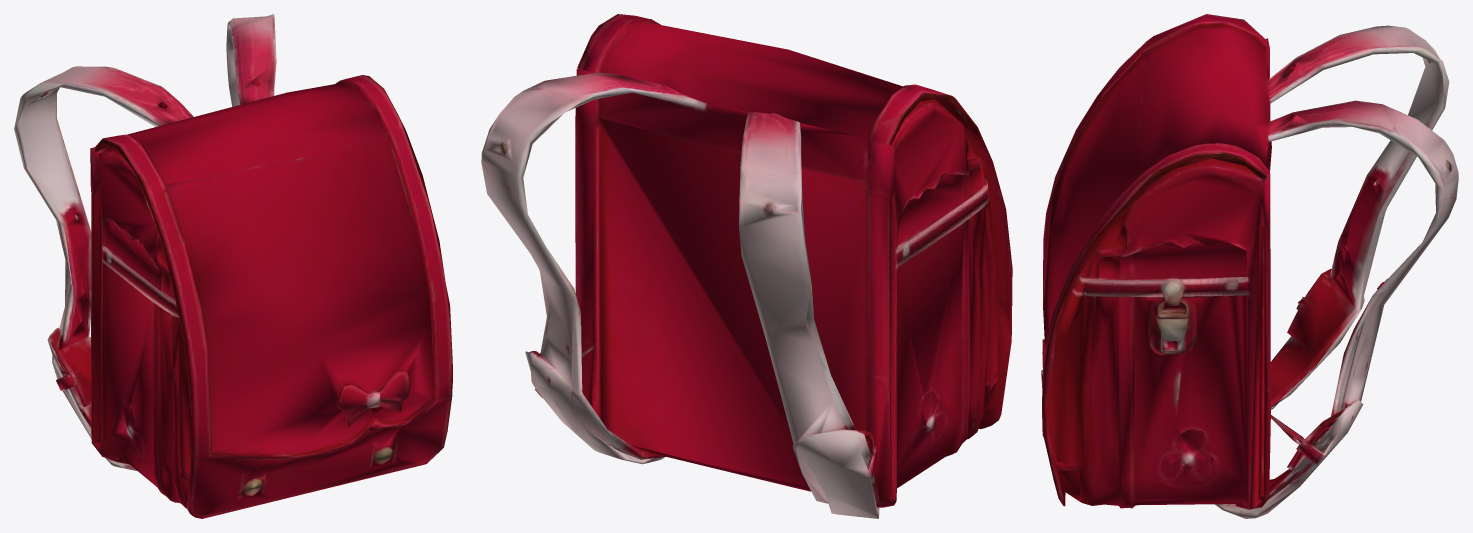
The model's file is school-bag.glb.
3 renders of one model, left to right at view 1: azimuth 30°, elevation 25°; view 2: azimuth 150°, elevation 25°; view 3: azimuth 270°, elevation 25°, orthographic. The views are drawn at different scales.
Visible parts, largest first — view 1: material; view 2: material; view 3: material.
Part boxes in pixels (bbox=[...]): material: bbox=[14, 14, 452, 518]; material: bbox=[481, 14, 1012, 518]; material: bbox=[1041, 14, 1458, 518].
Size of the model in its own units: 0.6881 by 0.8295 by 0.8058.
Materials: 1 (1 with a texture image).
